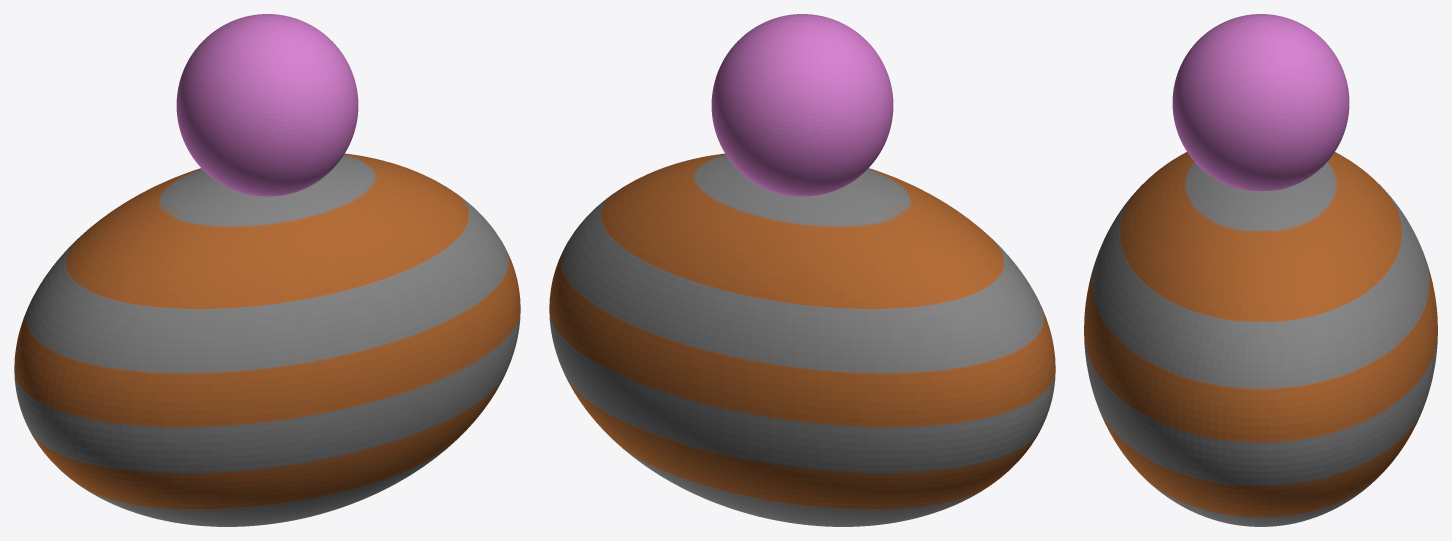
File: BOD1_BMC3_BCC0_BPT2_FRC0_HEA0_HMC10_HCC0_HPT0_ELT0_ERT0_ELL0_ERL0_AP0_AAL0_AAR0_BEK0.fbx
3 views of the same model, side by side, from view 1: azimuth 30°, elevation 25°; view 2: azimuth 150°, elevation 25°; view 3: azimuth 270°, elevation 25° (orthographic). The views are drawn at different scales.
Parts seen in each view (by area): view 1: Body, Head; view 2: Body, Head; view 3: Body, Head.
Part boxes in pixels (bbox=[...]): Body: bbox=[14, 153, 520, 526]; Head: bbox=[176, 14, 358, 196]; Body: bbox=[549, 153, 1055, 526]; Head: bbox=[711, 14, 893, 196]; Body: bbox=[1084, 152, 1437, 526]; Head: bbox=[1172, 14, 1349, 191].
Bounding box in the file's own units: 148 × 145 × 98.72.
Materials: 2 (2 with a texture image).
